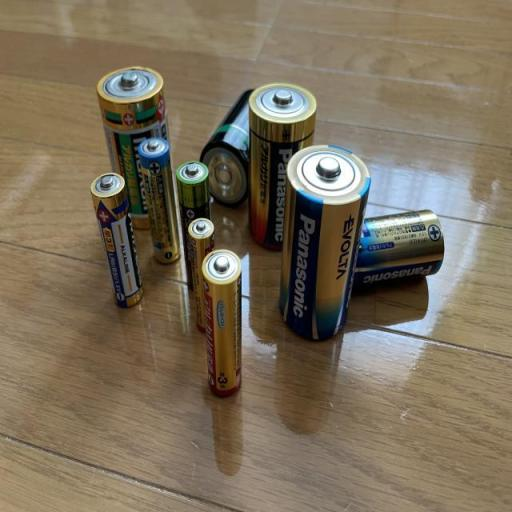battery: (274, 140, 372, 345), (248, 77, 320, 257), (96, 64, 174, 230), (198, 88, 272, 210), (348, 208, 451, 289), (91, 170, 144, 312), (202, 242, 246, 398), (139, 137, 183, 265), (174, 161, 214, 296), (188, 214, 218, 341)
